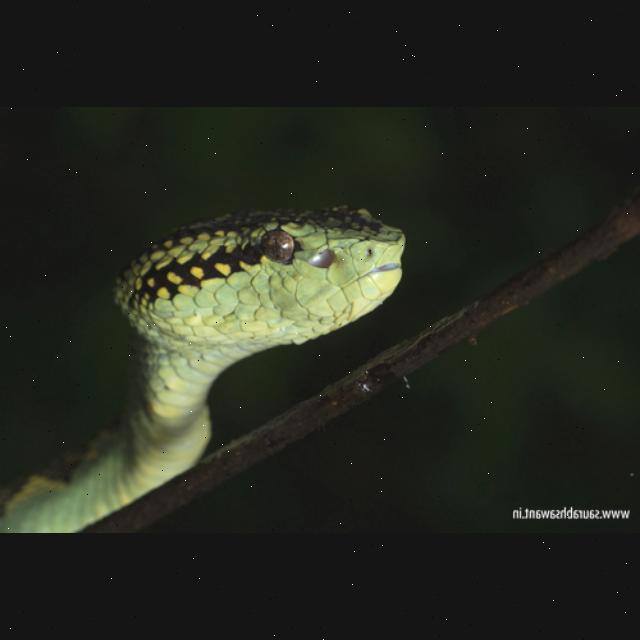snake: (2, 171, 420, 533)
